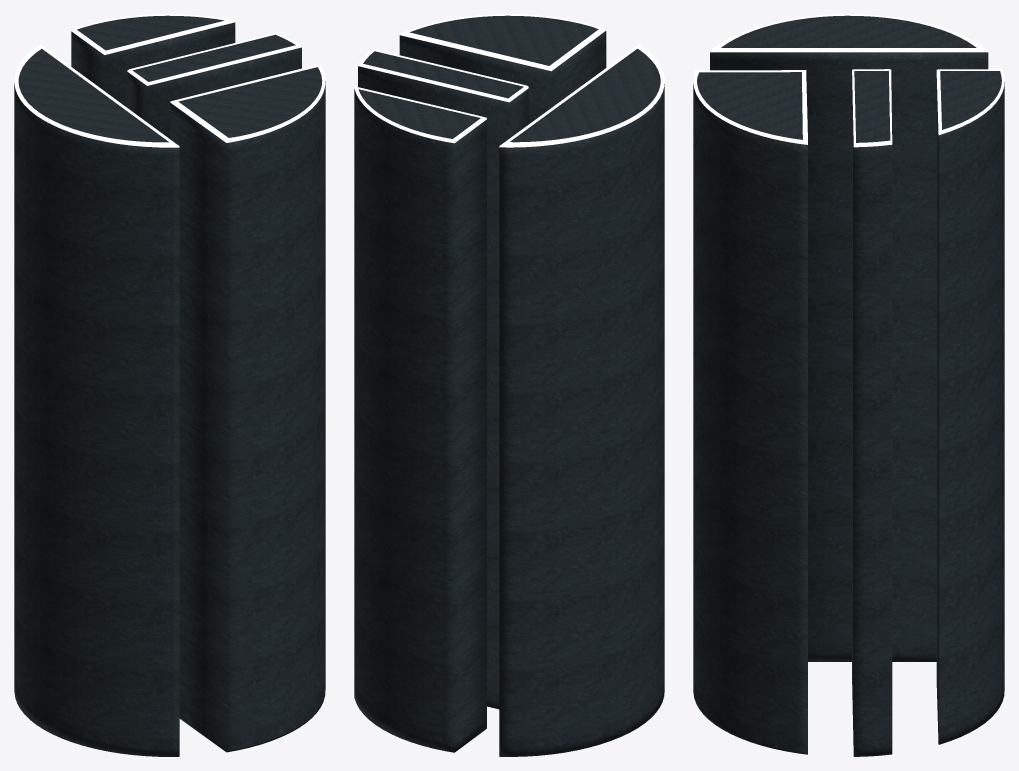
The model's file is Pillar.glb.
3 renders of one model, left to right at view 1: azimuth 30°, elevation 25°; view 2: azimuth 150°, elevation 25°; view 3: azimuth 270°, elevation 25°, orthographic.
Parts seen in each view (by area): view 1: Pillar, top; view 2: Pillar, top; view 3: Pillar, top.
Boxes of the visible parts, bbox=[...] form: Pillar: bbox=[14, 15, 325, 756]; top: bbox=[14, 14, 325, 147]; Pillar: bbox=[354, 15, 664, 756]; top: bbox=[354, 14, 664, 147]; Pillar: bbox=[693, 15, 1004, 756]; top: bbox=[693, 14, 1004, 147].
Size of the model in its own units: 119 by 258 by 119.
Materials: 2 (1 with a texture image).
